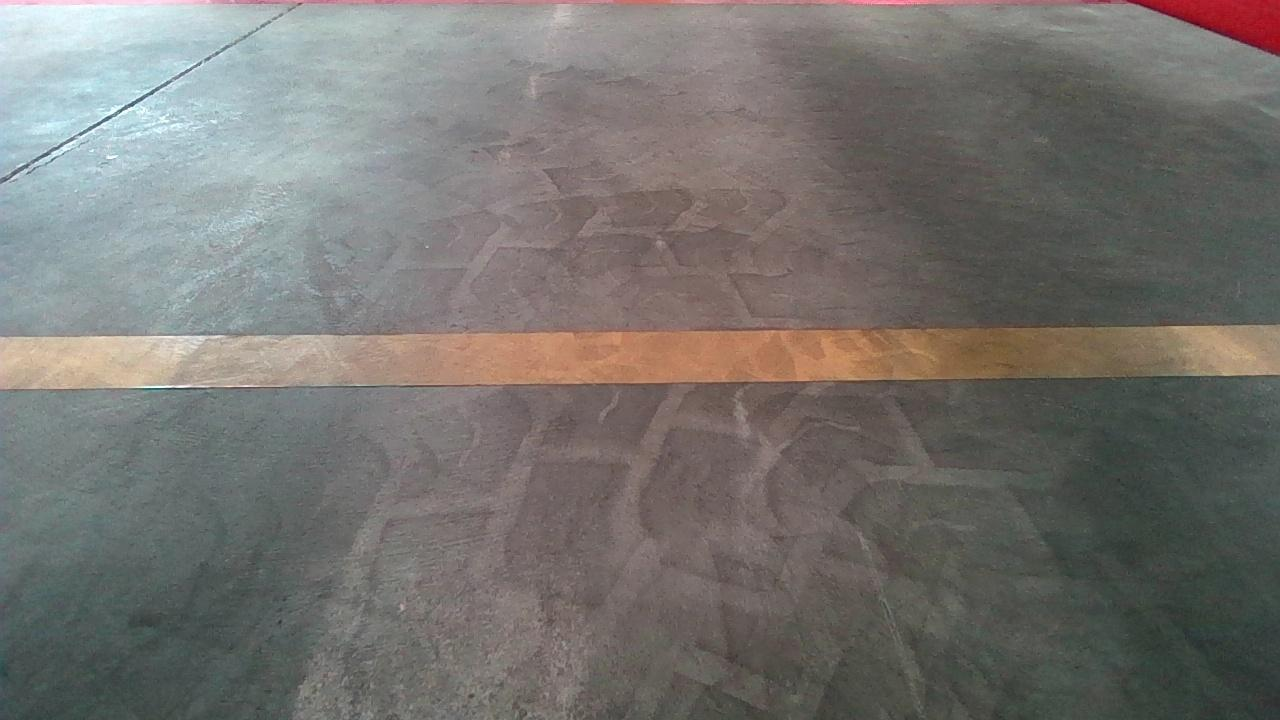yellow_line: (0, 320, 1265, 390)
